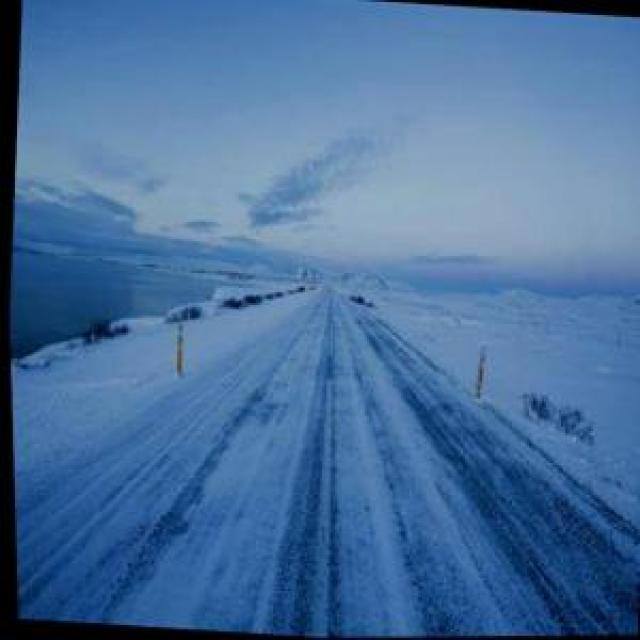ice-road: (12, 283, 636, 638)
